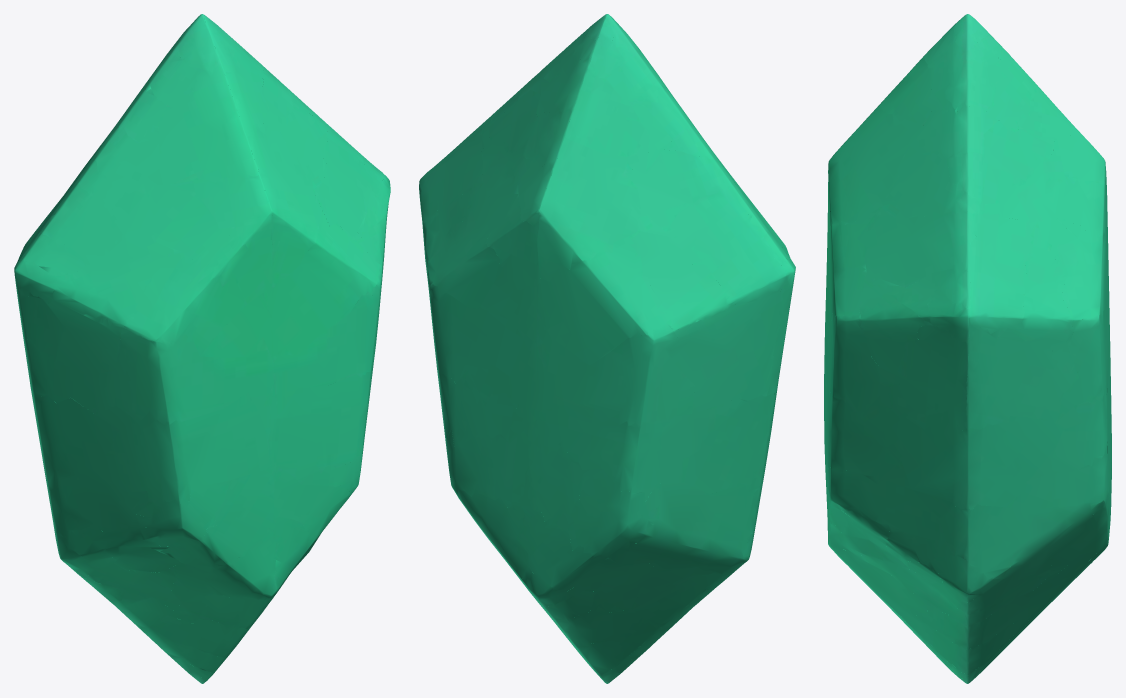
Rendered from gem.glb.
The picture shows the model from 3 angles, left to right: view 1: azimuth 30°, elevation 25°; view 2: azimuth 150°, elevation 25°; view 3: azimuth 270°, elevation 25°; orthographic projection.
Visible parts, largest first — view 1: Mesh_0; view 2: Mesh_0; view 3: Mesh_0.
Boxes of the visible parts, x1,y1,x2,y2 form: Mesh_0: (14,14,390,683); Mesh_0: (419,14,795,683); Mesh_0: (824,14,1111,683).
Bounding box in the file's own units: 0.3515 × 0.6 × 0.2338.
Materials: 1 (1 with a texture image).
